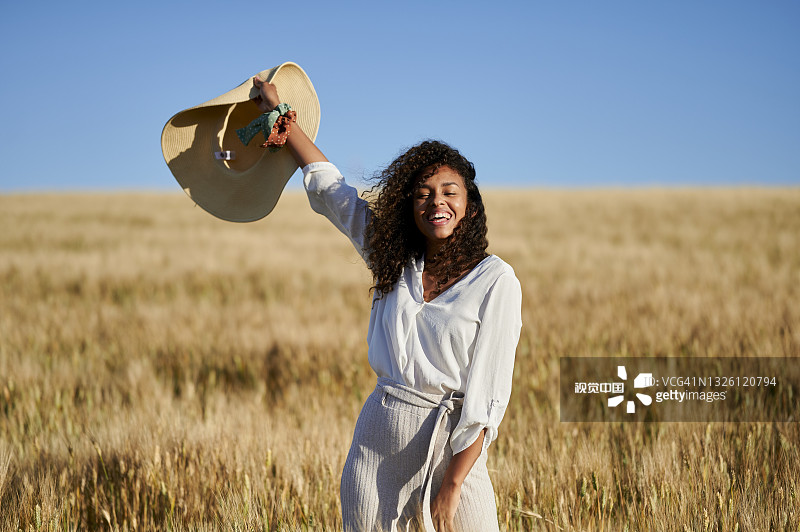no-phone: (239, 66, 289, 133)
